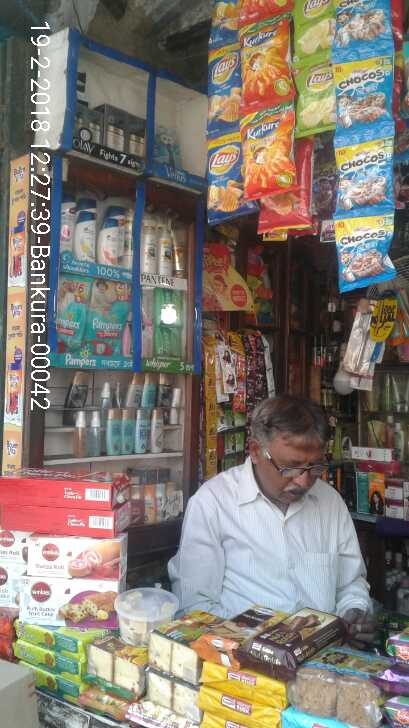gillete: (317, 336, 325, 366), (310, 336, 316, 364)
venus: (155, 128, 177, 163)
